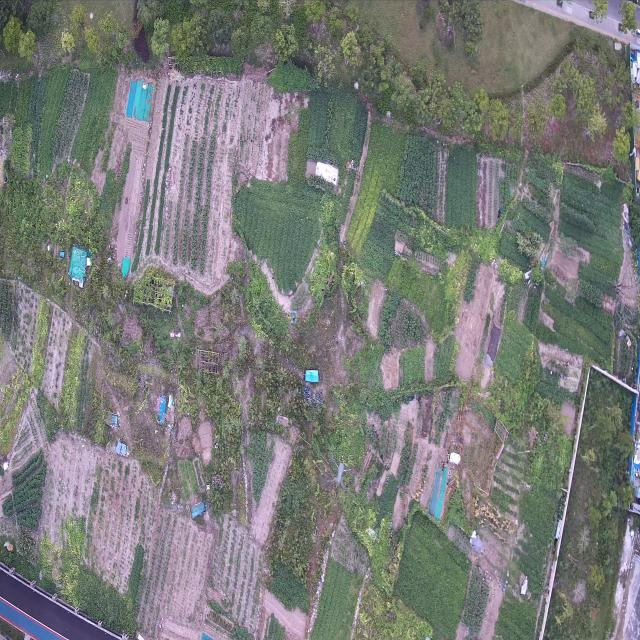UAV: (328, 458, 350, 492)
